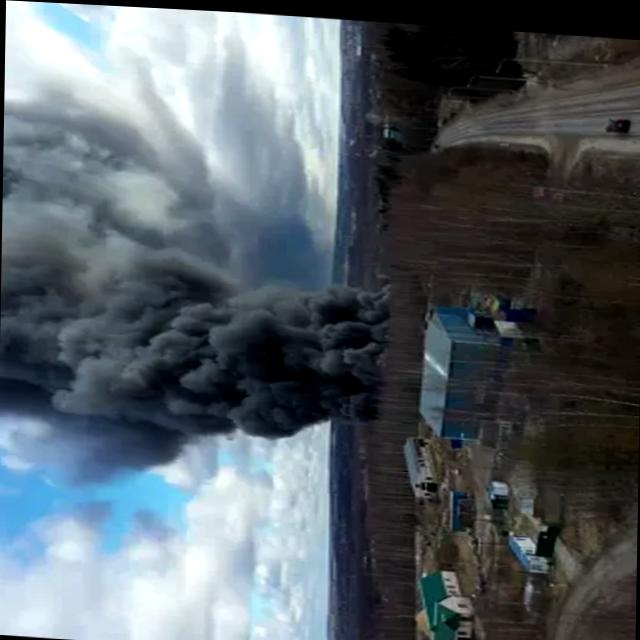no_helmet: (0, 108, 383, 493)
